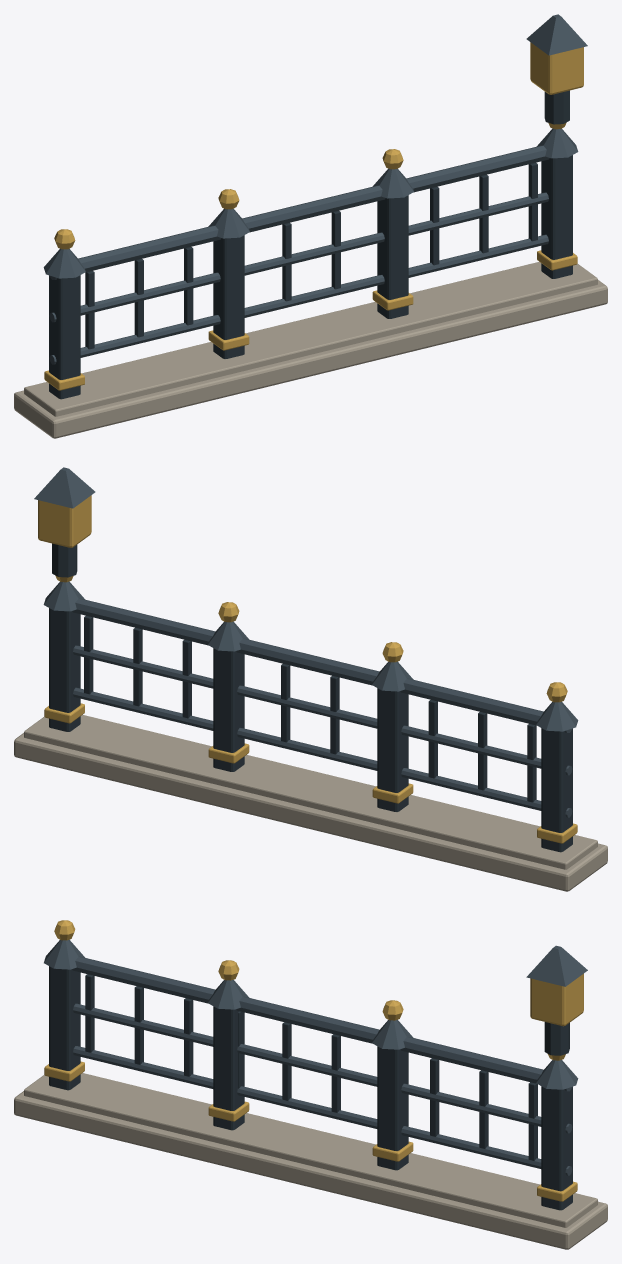
Rendered from SM_RheinuferGelaender.glb.
The picture shows the model from 3 angles, top to bottom: view 1: azimuth 30°, elevation 25°; view 2: azimuth 150°, elevation 25°; view 3: azimuth 330°, elevation 25°; orthographic projection.
Parts seen in each view (by area): view 1: SM_RheinuferGelaender; view 2: SM_RheinuferGelaender; view 3: SM_RheinuferGelaender.
Part boxes in pixels (box(x1,y1,x2,y2)): SM_RheinuferGelaender: box(14, 14, 607, 438); SM_RheinuferGelaender: box(14, 467, 607, 891); SM_RheinuferGelaender: box(14, 920, 607, 1249).
Size of what is drawn, in the model's own units: 4.4 by 2.13 by 0.56.
